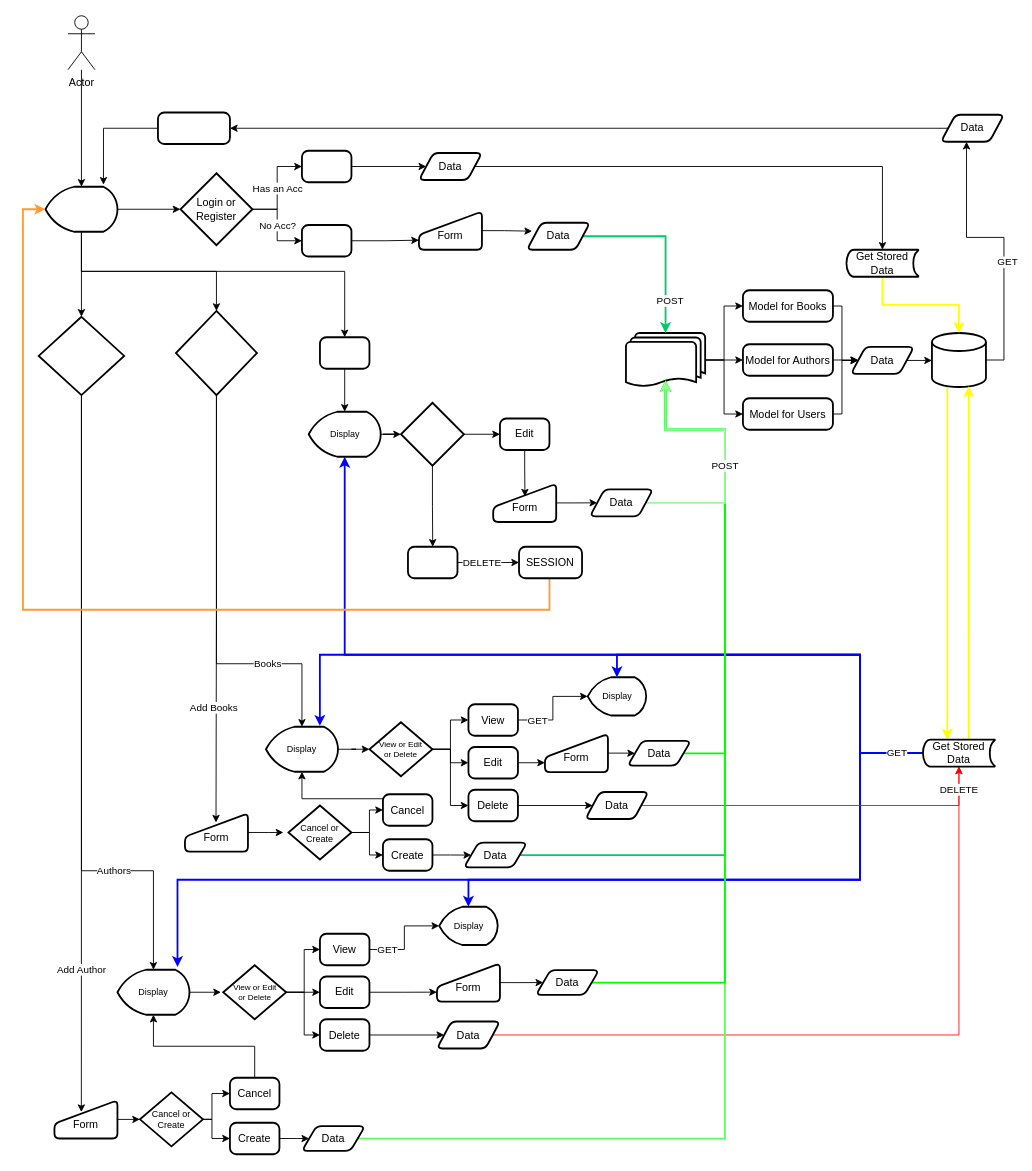
The diagram is 1032 pixels wide and 1171 high, and some of its shapes have lost their labels. The centre of each missing label's shape, as x and y in pixels:
Account: pixel 344 352
Author or Add Authors: pixel 81 355
Books or Add Books: pixel 216 353
Edit or Log out: pixel 432 433
Log out: pixel 432 562
Logged In: pixel 193 127
Login: pixel 326 166
Models: pixel 665 359
MongoDB: pixel 958 359
Register: pixel 326 240
Webpage: pixel 81 208
